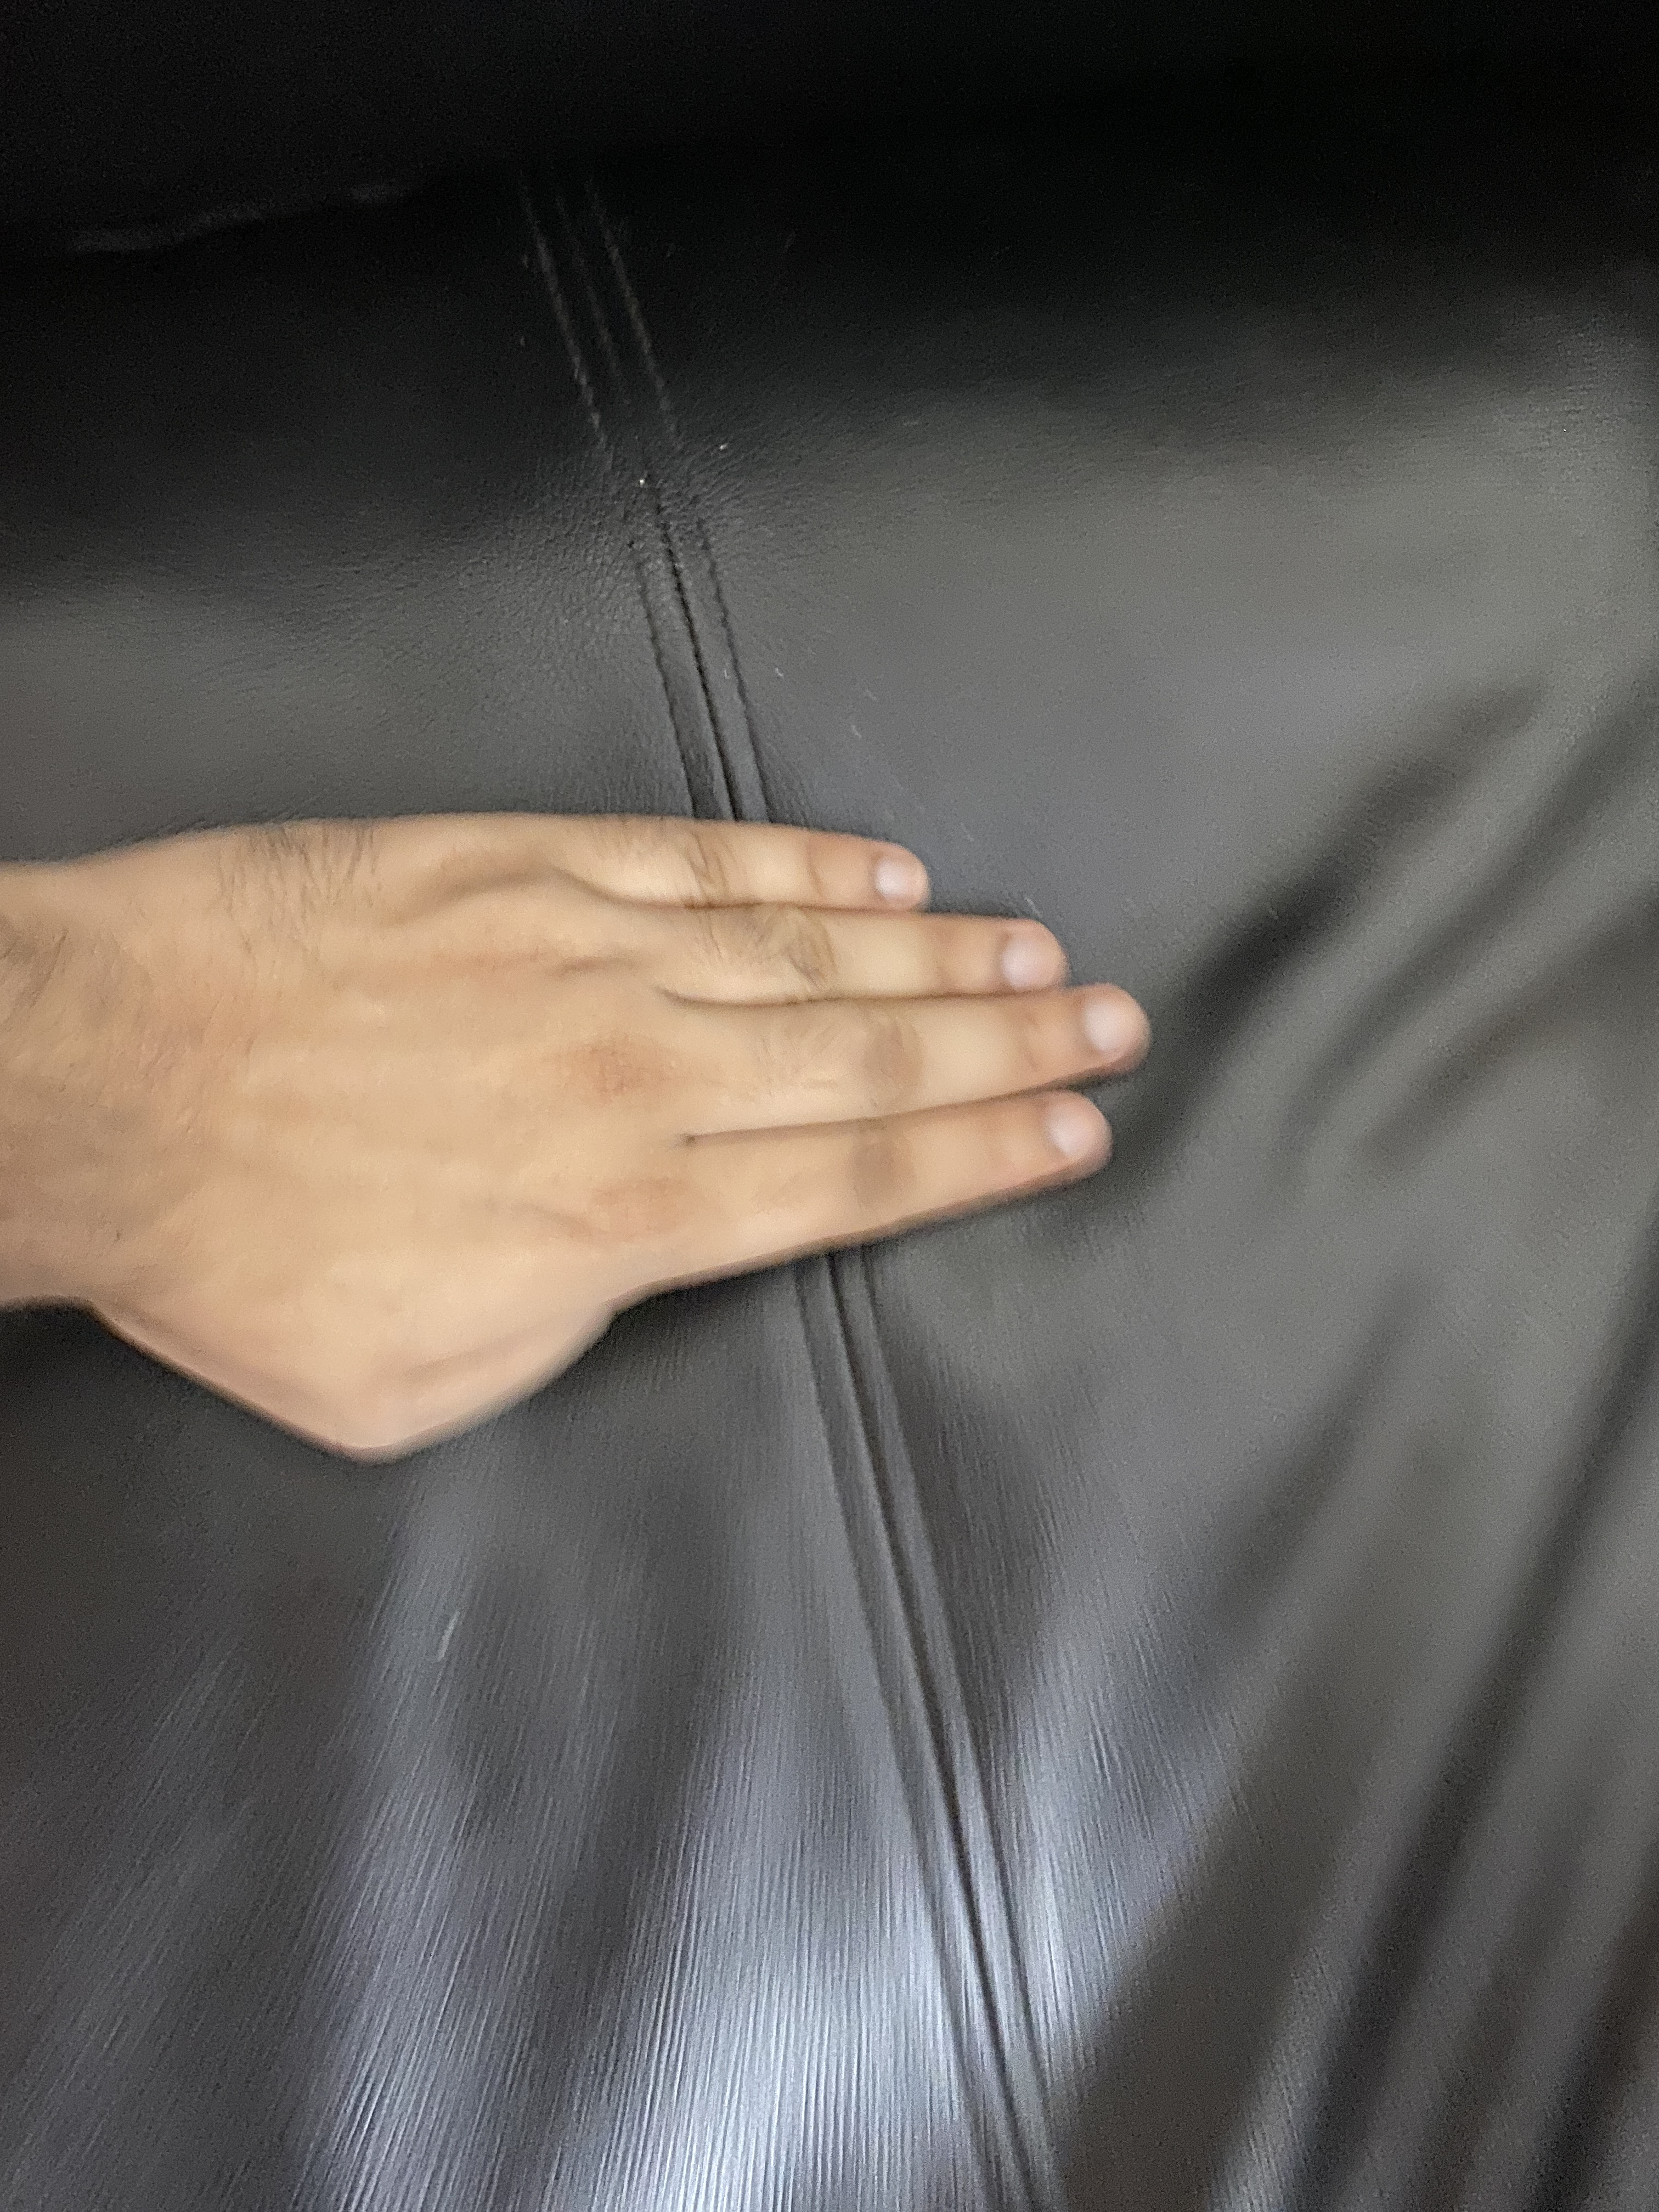left: (12, 726, 1218, 1484)
